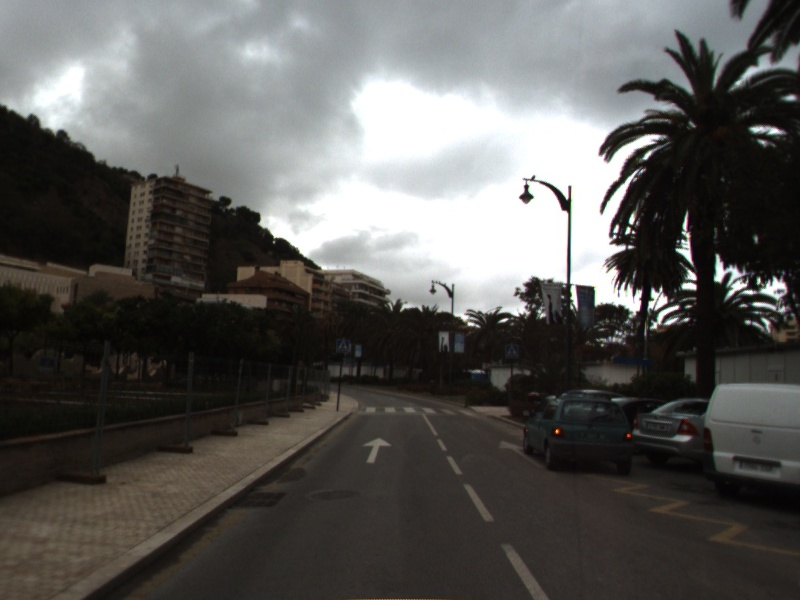STRAIGHT: (496, 438, 547, 470), (360, 436, 394, 465)
